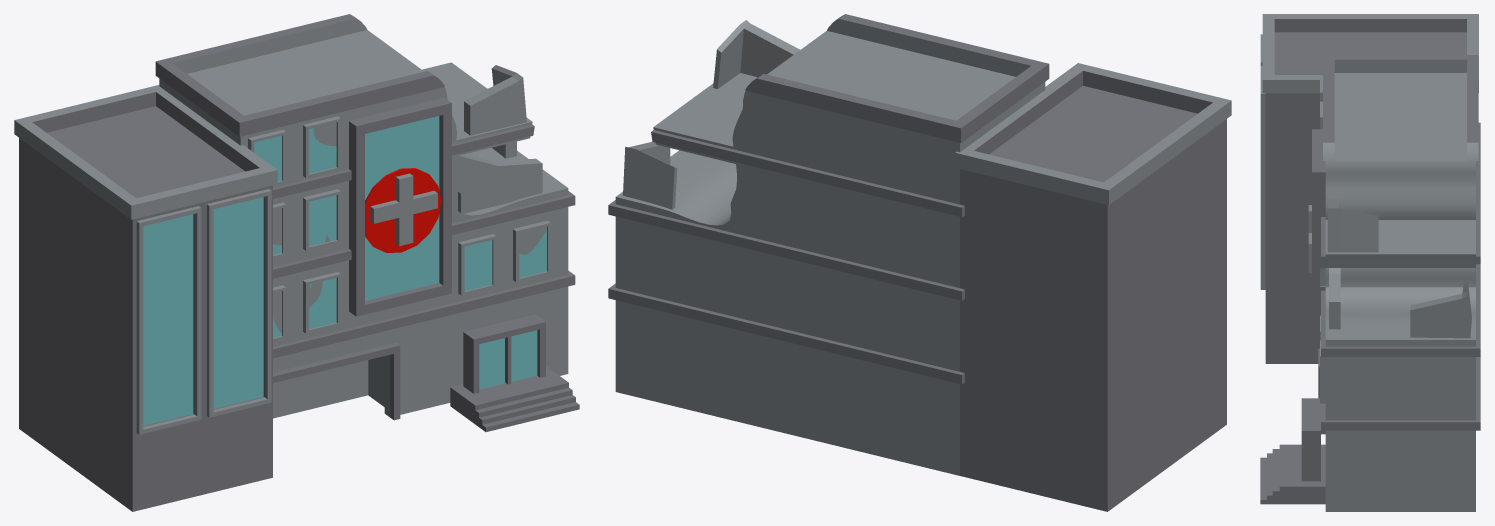
Rendered from Hospital_Verwoest.fbx.
3 views of the same model, side by side, from view 1: azimuth 30°, elevation 25°; view 2: azimuth 150°, elevation 25°; view 3: azimuth 270°, elevation 25° (orthographic). The views are drawn at different scales.
Visible parts, largest first — view 1: Hospital_Verwoest; view 2: Hospital_Verwoest; view 3: Hospital_Verwoest.
Part boxes in pixels (x1,y1,x2,y2): Hospital_Verwoest: (14,14,579,511); Hospital_Verwoest: (608,14,1231,511); Hospital_Verwoest: (1260,14,1480,511).
Bounding box in the file's own units: 1016 × 686 × 441.
